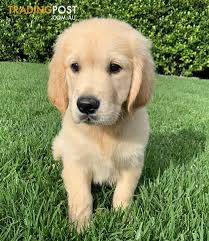Golden Retriever: (33, 18, 178, 222)
